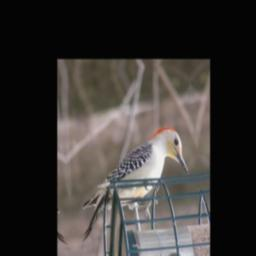Woodpecker: (71, 121, 196, 242)
